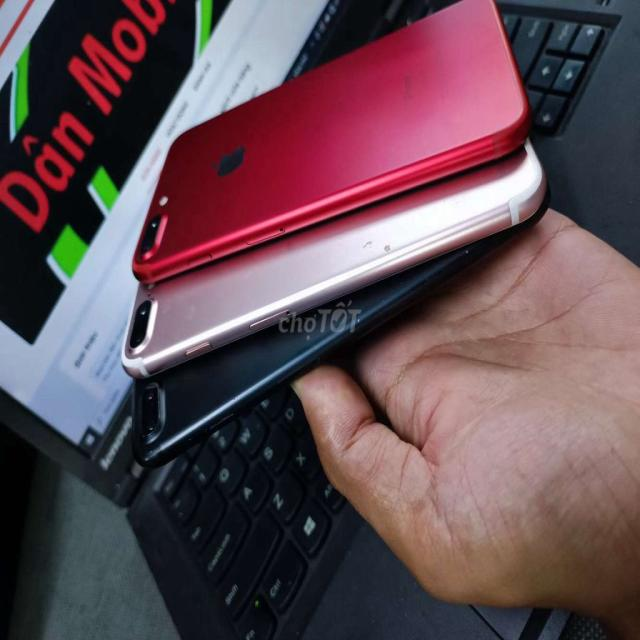gen_7_8: (125, 142, 545, 381)
